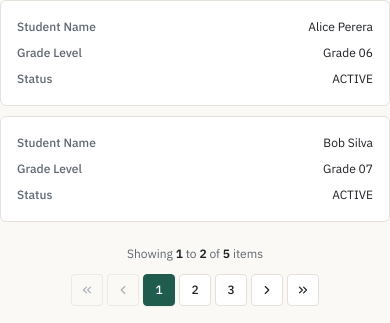
it: DataTable Component › paginates items correctly when pageSize is specified
Expected: the text "Alice Perera" is shown, [308, 19, 373, 35]
Expected: the text "Bob Silva" is shown, [323, 135, 373, 151]
Note: Click Next or Page 2
Click the button named "Page 2": (195, 290) [179, 274, 211, 306]
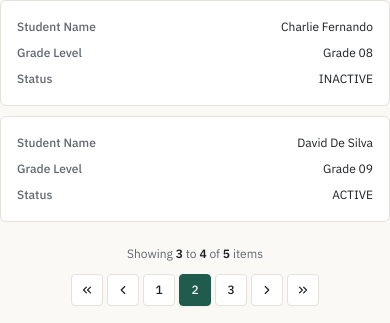
Result: the text "Charlie Fernando" is shown at [281, 19, 373, 35]
Result: the text "David De Silva" is shown at [297, 135, 373, 151]
